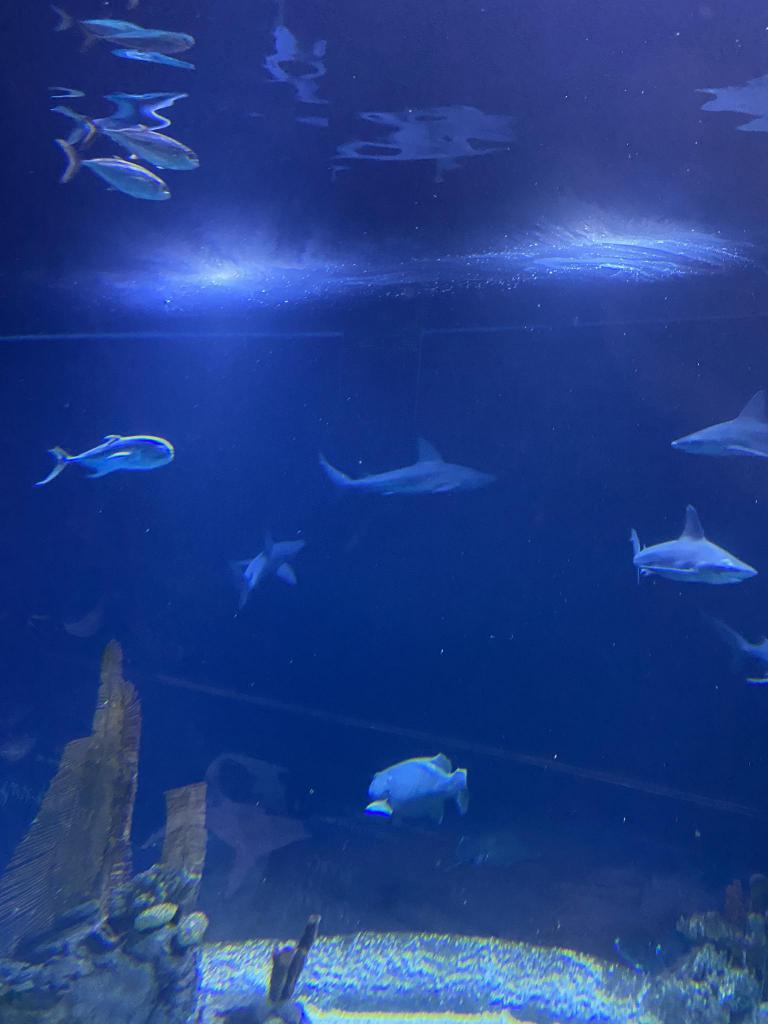fish: (363, 754, 469, 826), (58, 139, 170, 201), (38, 435, 174, 485), (76, 118, 198, 172)
shark: (318, 438, 492, 496), (630, 506, 756, 586), (672, 388, 768, 462), (232, 532, 300, 606), (703, 610, 767, 686)
